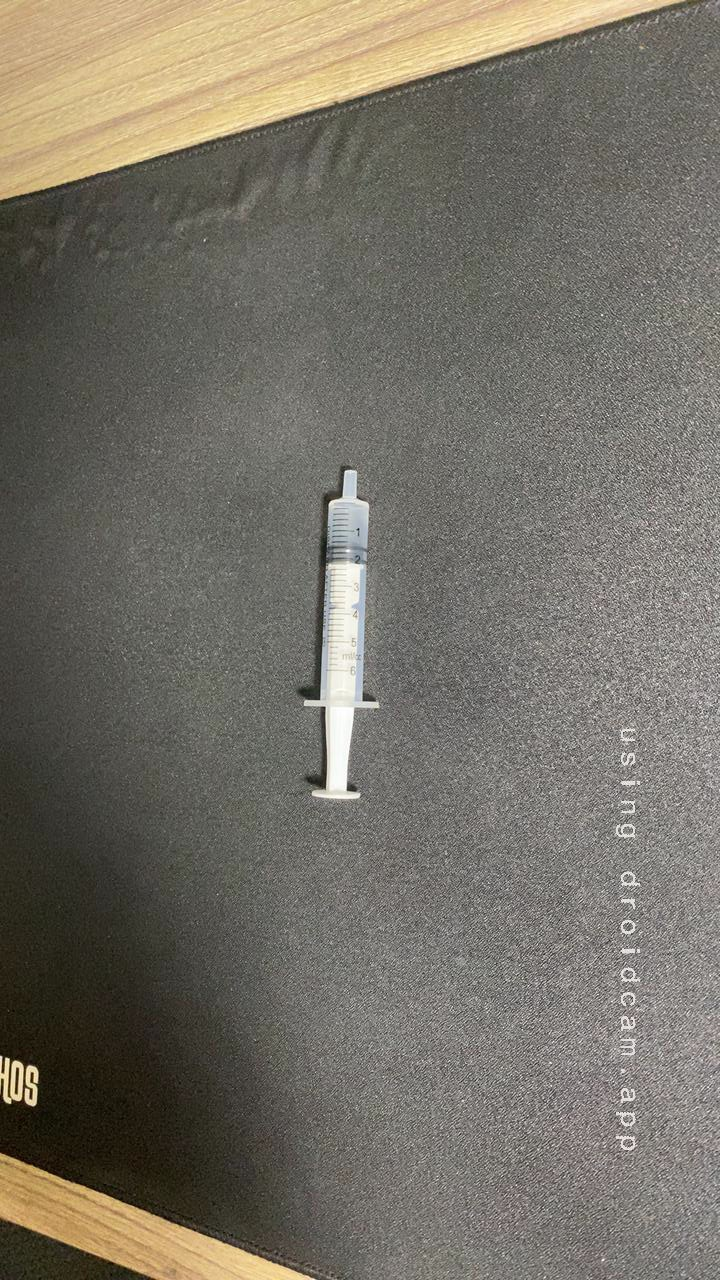syringe: (267, 456, 433, 829)
